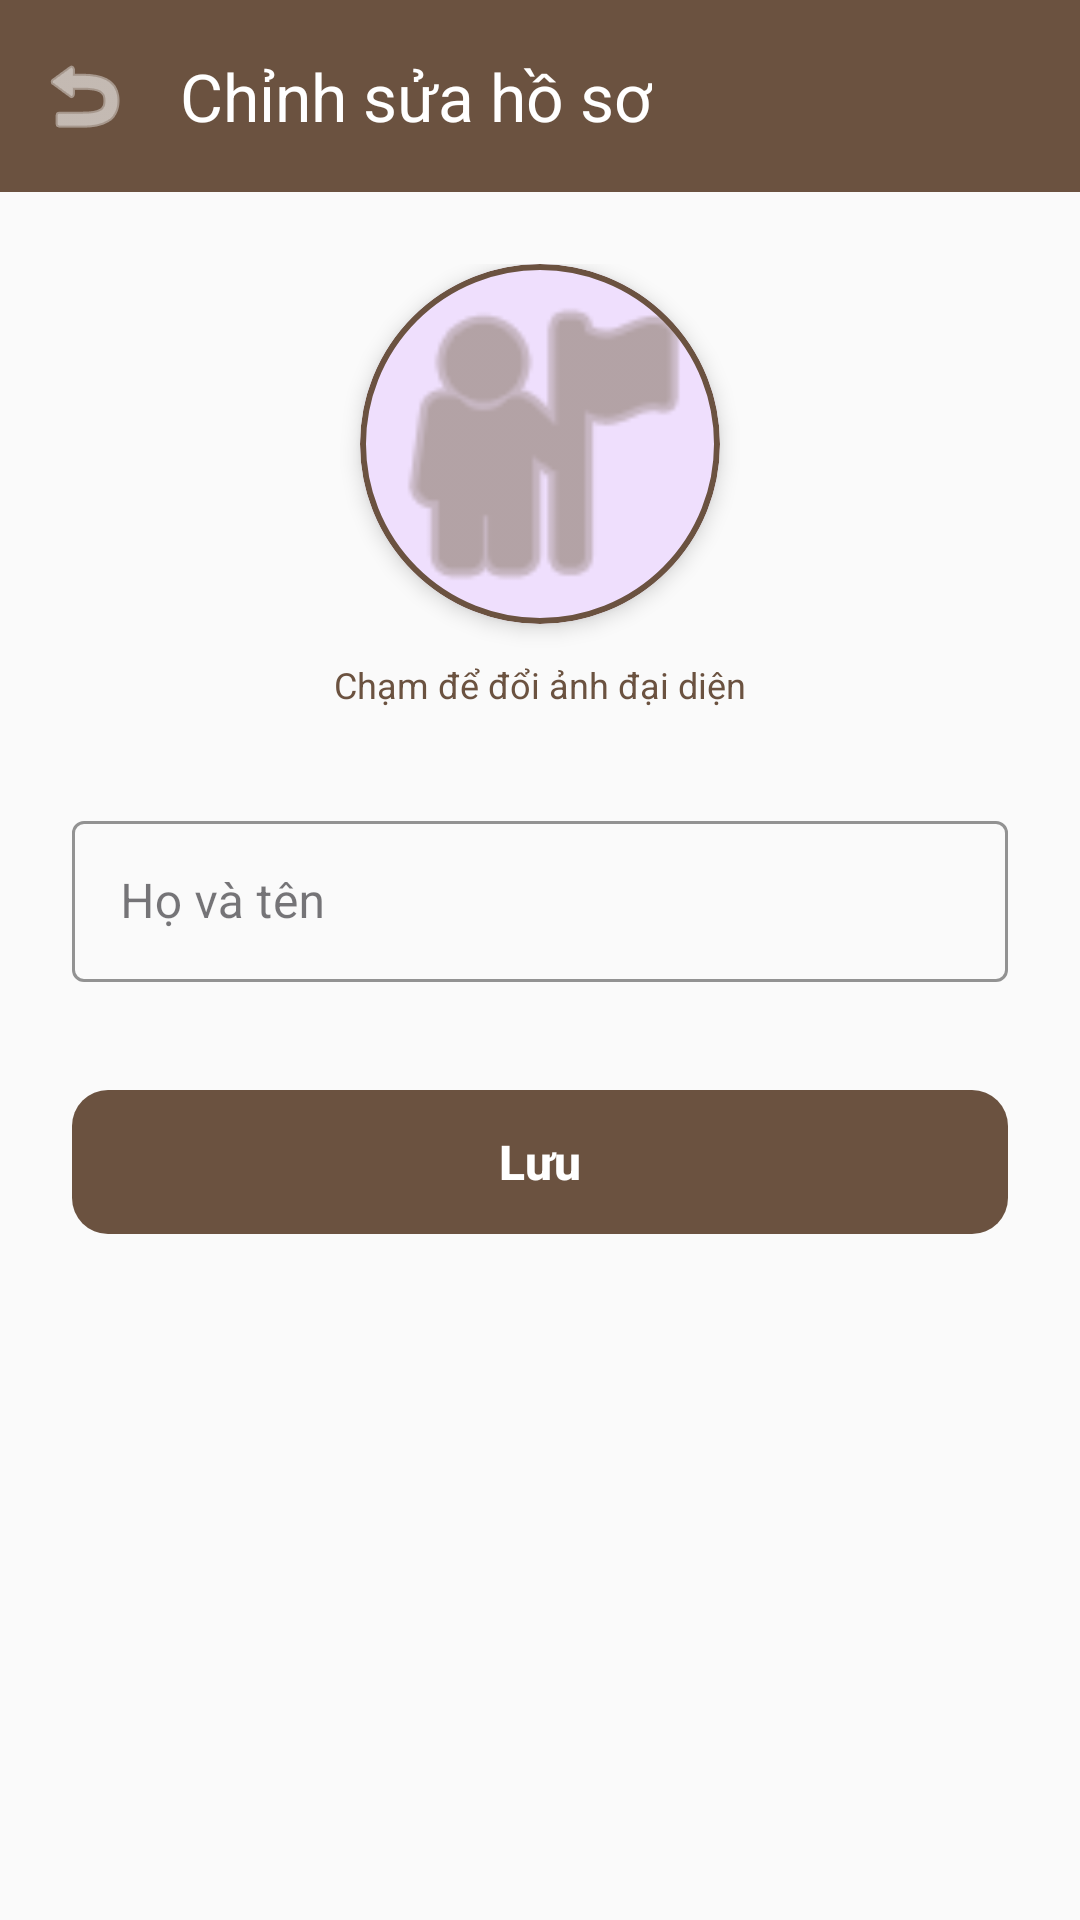

Icons on this 1080px×1920px Android screen, each with its box as (x1, y1, x2, y2):
myplaces: (360, 264, 720, 624)
